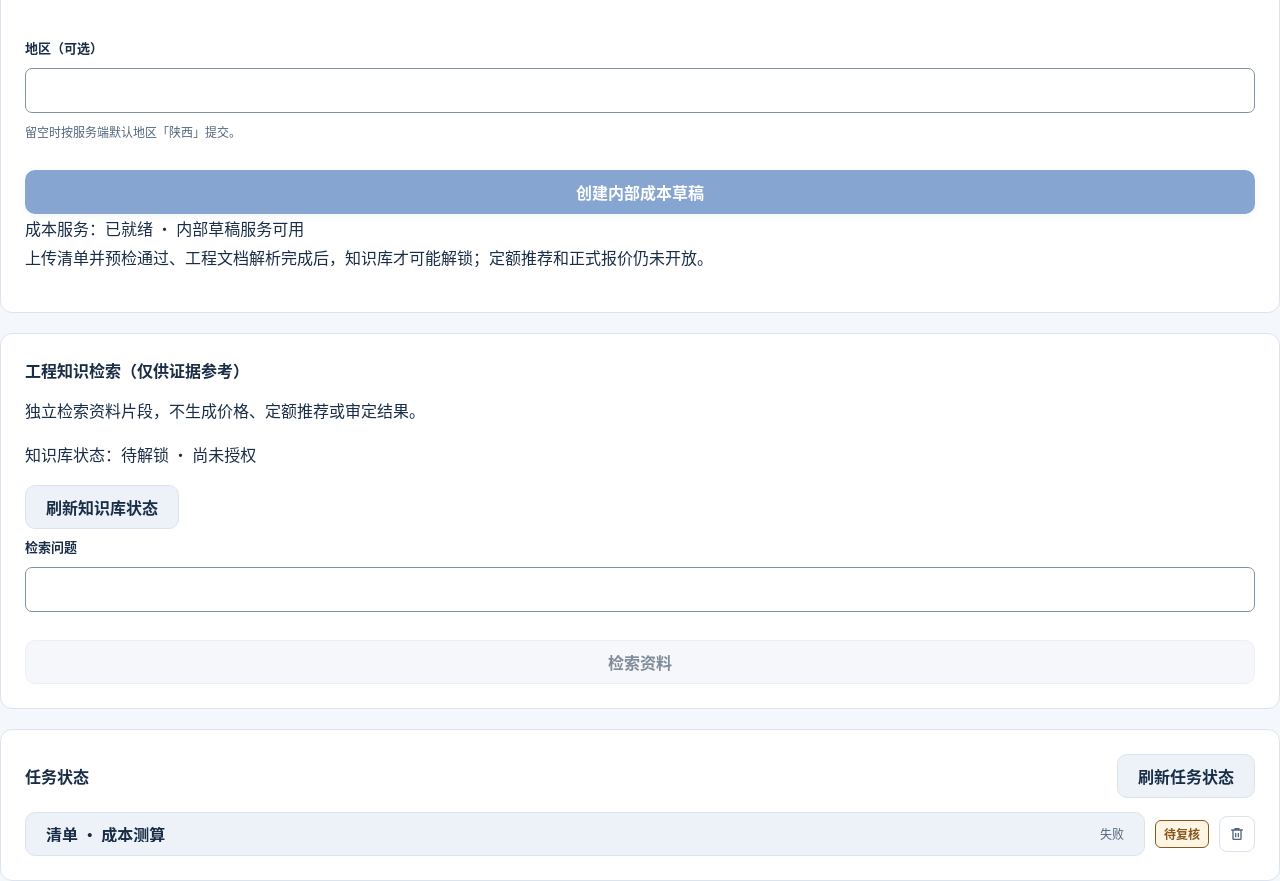
Test case: EngineeringPendingPage › uses backend inspection, result summary, error and capability statuses for review
The image size is (1280, 881).
(page scrolled)
Expected: the text "知识库状态：待解锁 · 尚未授权" is shown, [25,442,256,466]
Click the button "清单 · 成本测算 失败".
click(106, 834)  # box [25,812,1145,856]
(page scrolled)
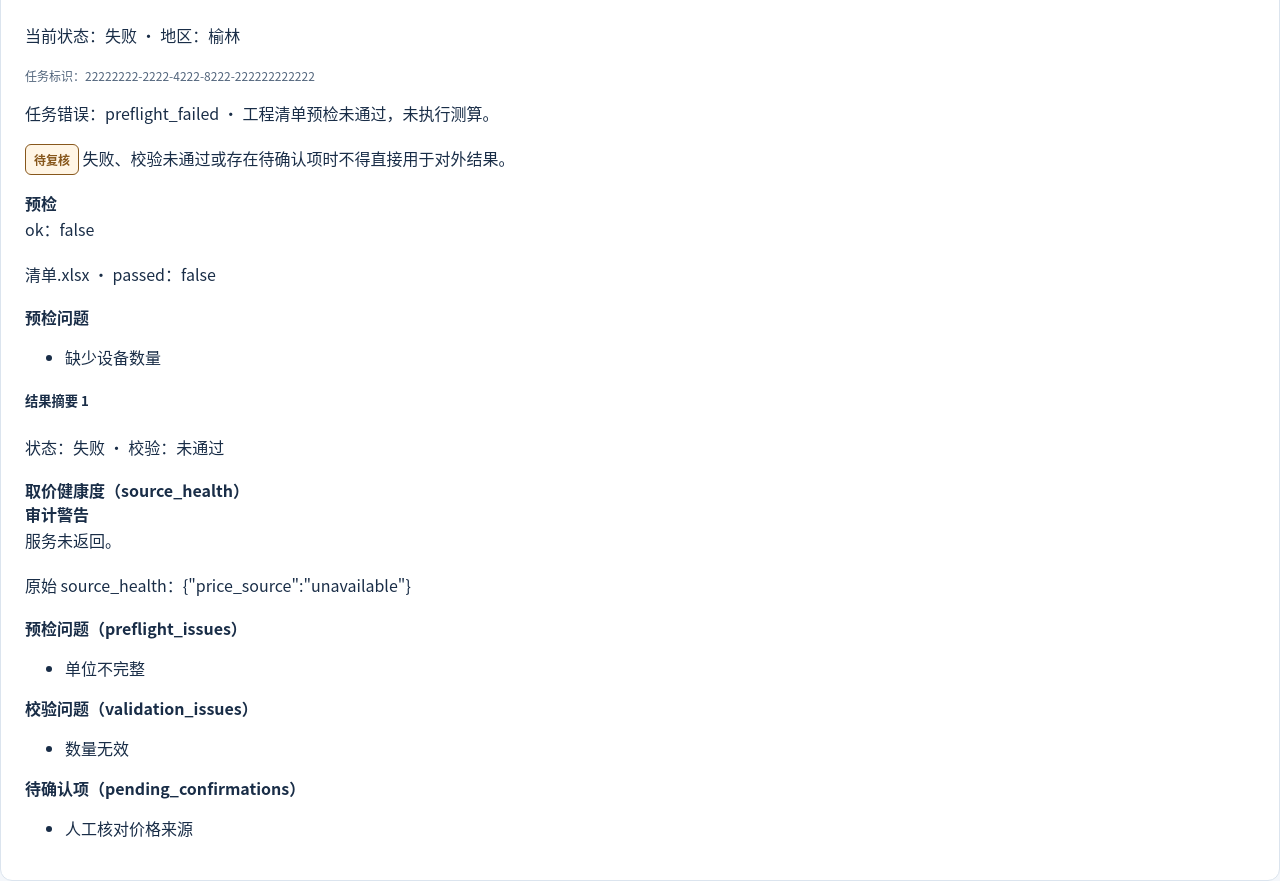
Expected: the text "任务错误：preflight_failed · 工程清单预检未通过，未执行测算。" is shown, [25,101,498,125]
Expected: the text "待复核" is shown 2 times
Expected: the list item "缺少设备数量" is shown, [65,345,161,369]
